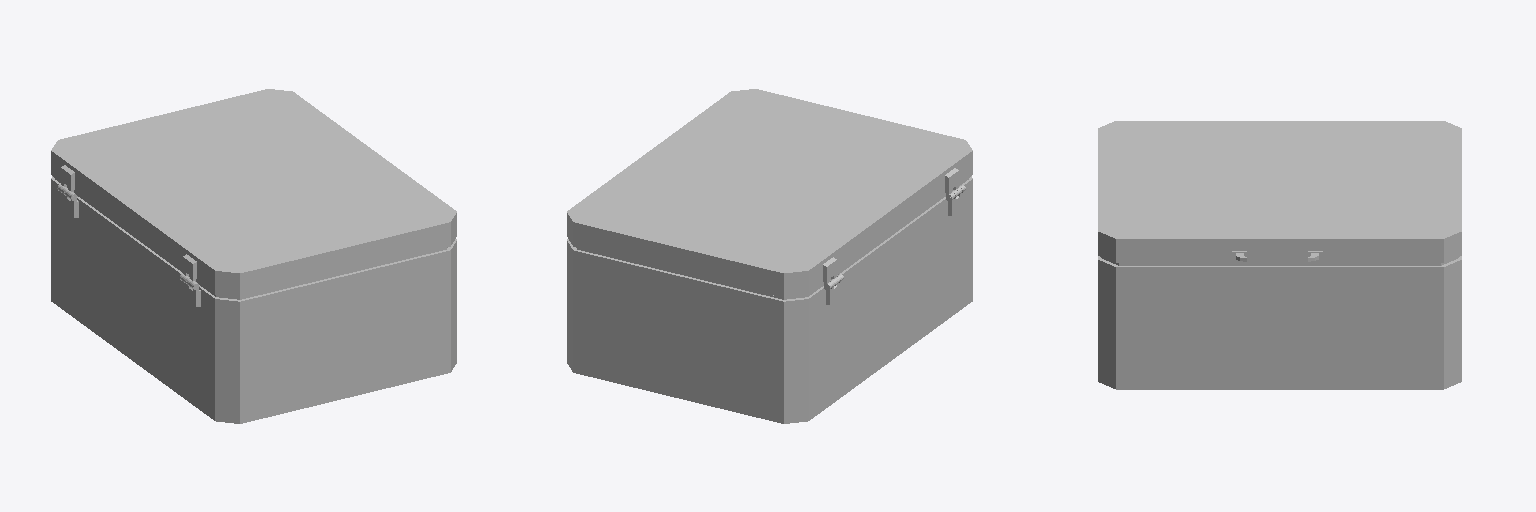
Rendered from box_medical_small.obj.
The picture shows the model from 3 angles: view 1: azimuth 30°, elevation 25°; view 2: azimuth 150°, elevation 25°; view 3: azimuth 270°, elevation 25°; orthographic projection.
Parts seen in each view (by area): view 1: Plane.002; view 2: Plane.002; view 3: Plane.002.
Part boxes in pixels (x1,y1,x2,y2): Plane.002: (51, 89, 456, 423); Plane.002: (567, 89, 972, 423); Plane.002: (1098, 121, 1461, 389).
Size of the model in its own units: 2.23 by 1.23 by 2.7.